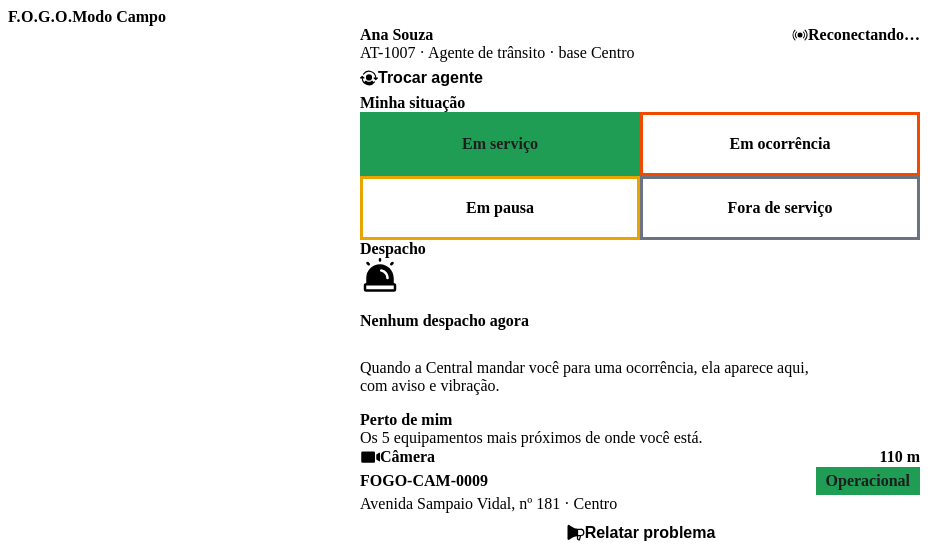
Test case: Modo Campo › "Trocar agente" esquece a escolha e volta para a lista
Step 1. Click the button "Trocar agente" → (421, 78), box [360,62,483,94]
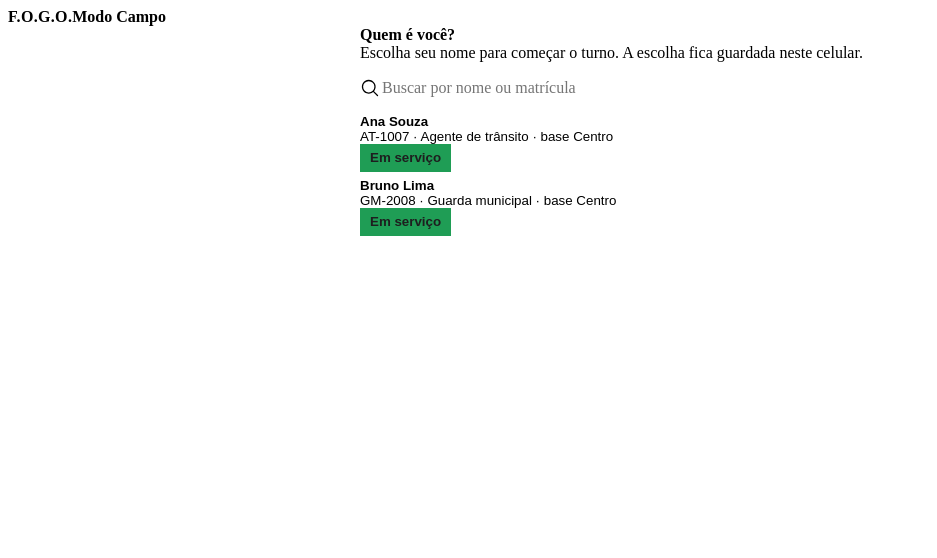
Expected: the heading "Quem é você?" is shown, [360,26,455,43]
